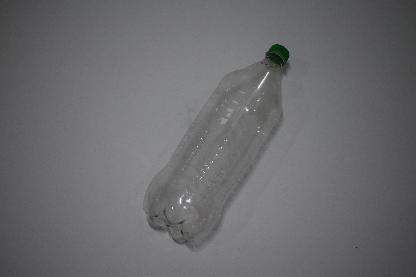Plastic Bottle: (145, 43, 291, 249)
